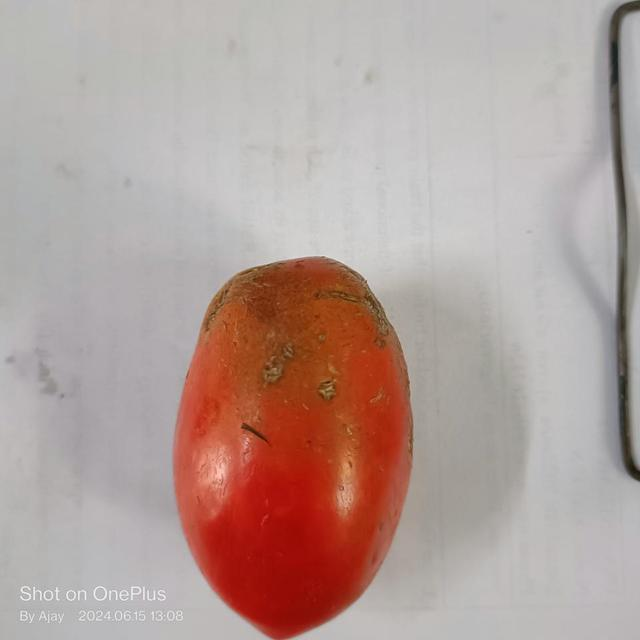Bacterial Spot Fruit: (19, 16, 236, 261)
